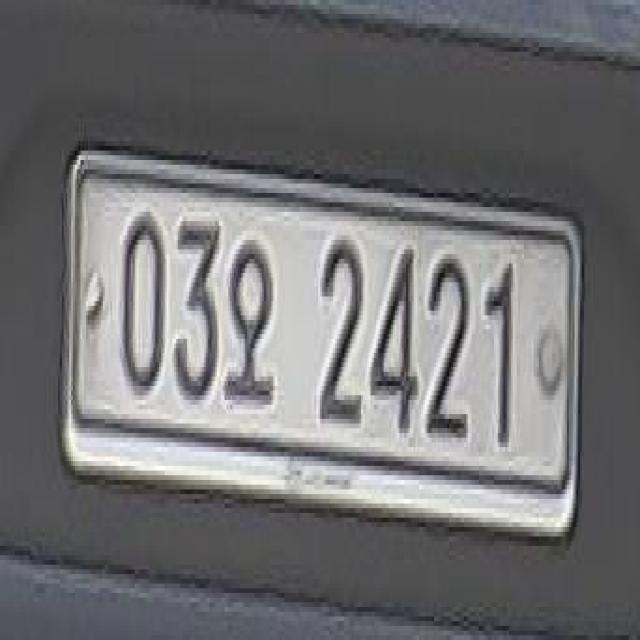illegal_plate: (71, 154, 583, 553)
